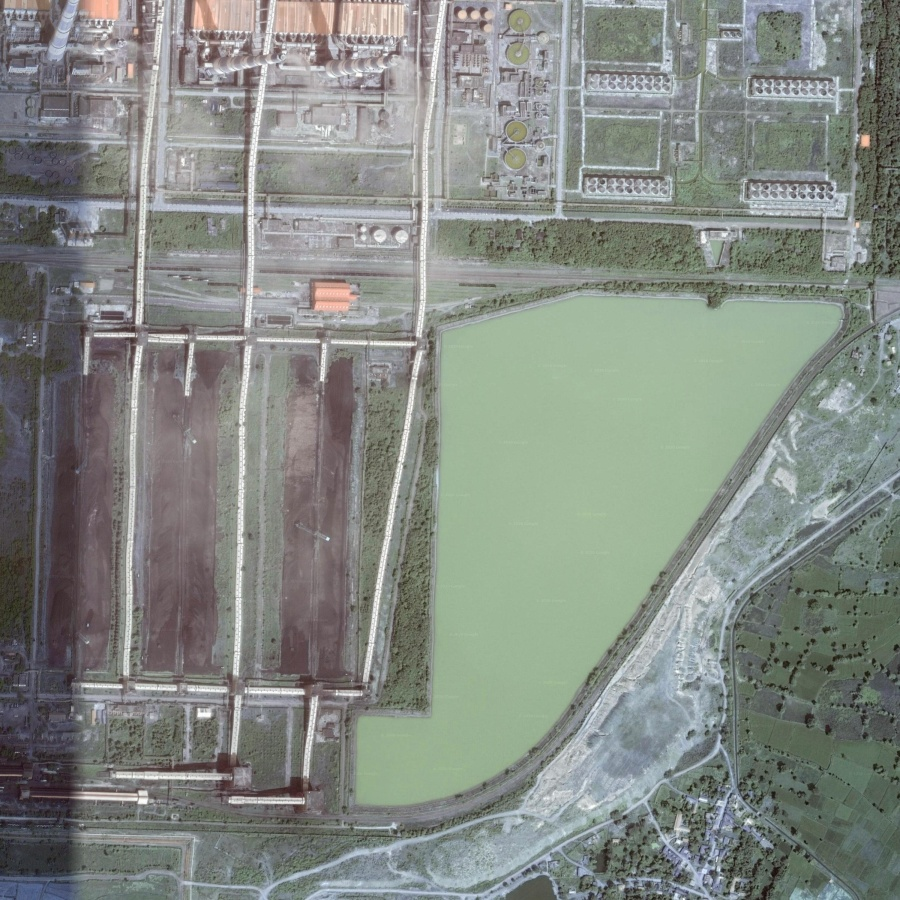PowerPlant: (37, 314, 396, 709)
